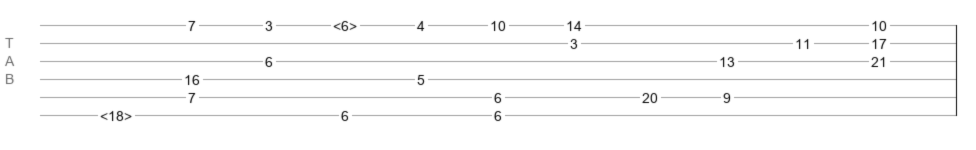10: (490, 18, 506, 28), (871, 18, 887, 28)
11: (795, 36, 811, 46)
13: (719, 54, 735, 64)
14: (566, 18, 582, 28)
16: (184, 72, 200, 82)
17: (871, 36, 887, 46)
20: (642, 90, 658, 100)
21: (871, 54, 887, 64)
3: (265, 18, 273, 28), (570, 36, 578, 46)
4: (417, 18, 425, 28)
5: (417, 72, 425, 82)
6: (265, 54, 273, 64), (341, 108, 349, 118), (494, 90, 502, 100), (494, 108, 502, 118)
7: (188, 90, 196, 100), (188, 18, 196, 28)
9: (723, 90, 731, 100)
harmonic: (100, 108, 132, 118), (333, 18, 357, 28)
